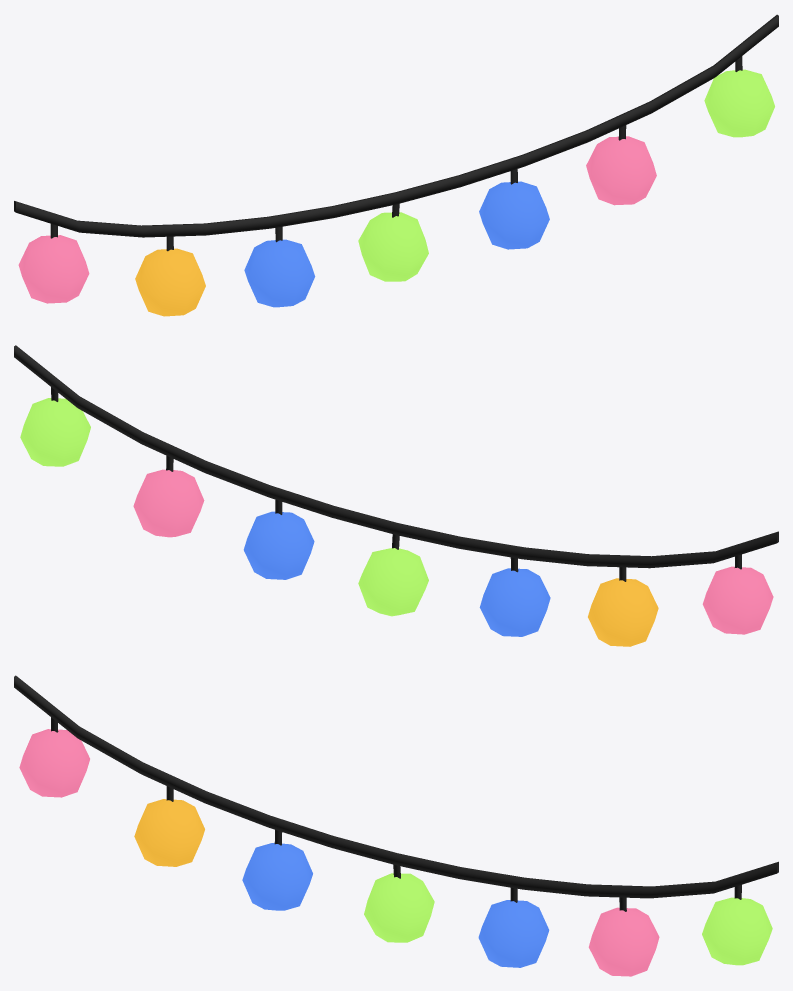
File: string_lights.glb
3 views of the same model, one above another, from view 1: azimuth 30°, elevation 25°; view 2: azimuth 150°, elevation 25°; view 3: azimuth 330°, elevation 25° (orthographic).
Visible parts, largest first — view 1: Cube, Cube.001, Cube.006, Cube.002, Cube.003, Cube.007, Cube.004, Cube.005; view 2: Cube, Cube.003, Cube.004, Cube.007, Cube.006, Cube.002, Cube.001, Cube.005; view 3: Cube, Cube.001, Cube.006, Cube.007, Cube.003, Cube.005, Cube.004, Cube.002.
Boxes of the visible parts, left/top/right/bottom form: Cube: left=14, top=14, right=778, bottom=237; Cube.001: left=358, top=203, right=428, bottom=281; Cube.006: left=586, top=125, right=656, bottom=205; Cube.002: left=18, top=224, right=89, bottom=303; Cube.003: left=135, top=236, right=205, bottom=316; Cube.007: left=479, top=169, right=549, bottom=249; Cube.004: left=244, top=226, right=315, bottom=307; Cube.005: left=704, top=56, right=774, bottom=137; Cube: left=14, top=345, right=778, bottom=568; Cube.003: left=588, top=567, right=658, bottom=646; Cube.004: left=479, top=557, right=550, bottom=636; Cube.007: left=243, top=499, right=314, bottom=579; Cube.006: left=133, top=455, right=204, bottom=537; Cube.002: left=702, top=554, right=773, bottom=634; Cube.001: left=358, top=534, right=428, bottom=616; Cube.005: left=20, top=387, right=90, bottom=466; Cube: left=14, top=675, right=778, bottom=898; Cube.001: left=364, top=864, right=434, bottom=942; Cube.006: left=588, top=897, right=659, bottom=976; Cube.007: left=478, top=887, right=549, bottom=967; Cube.003: left=134, top=786, right=204, bottom=866; Cube.005: left=702, top=884, right=772, bottom=965; Cube.004: left=242, top=830, right=312, bottom=910; Cube.002: left=19, top=717, right=89, bottom=797.
Bounding box in the file's own units: 3 × 0.6538 × 0.2771.
